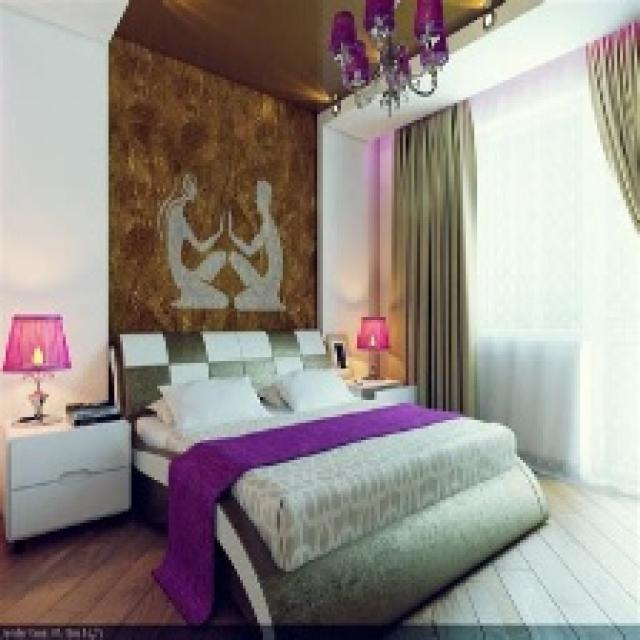Bed: (111, 326, 548, 637)
